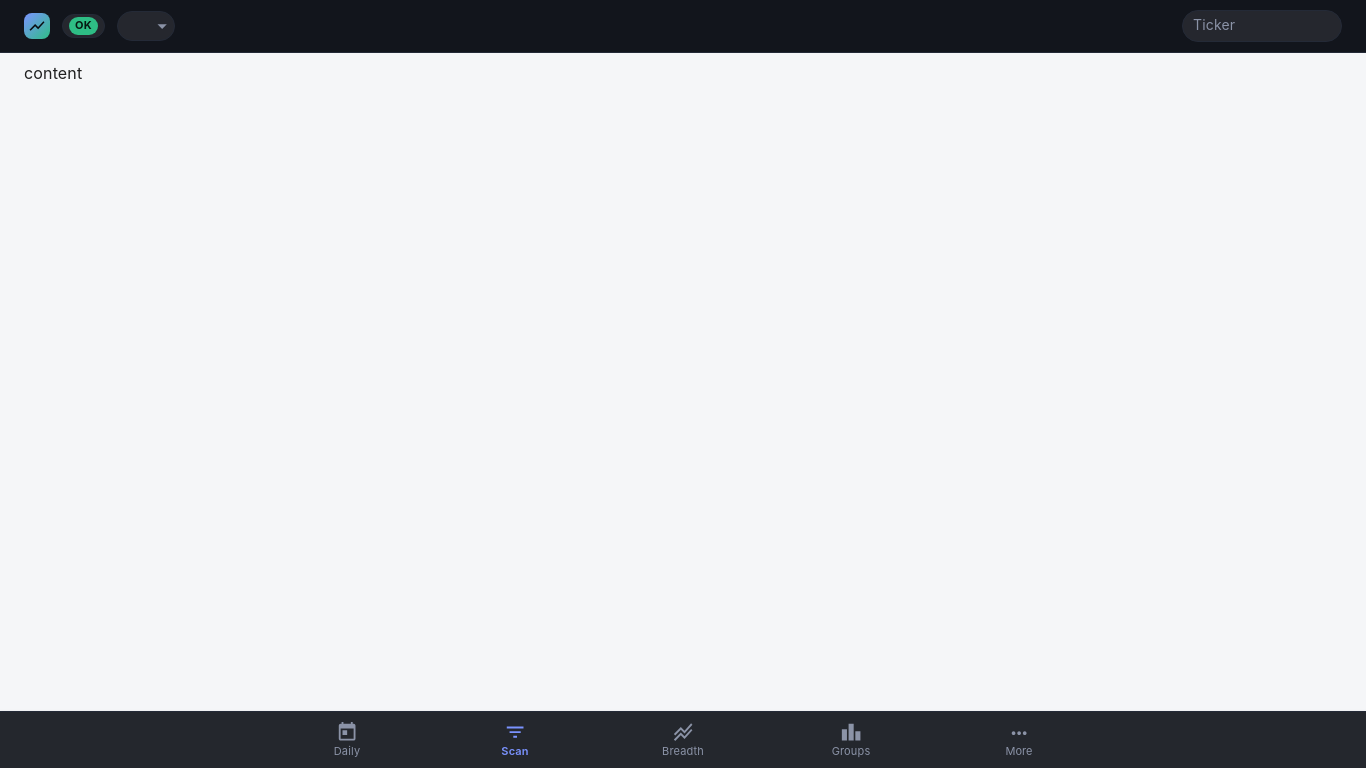
Scenario: Layout › on a phone-width screen › moves navigation into a bottom bar with a More sheet
The width and height of the screenshot is (1366, 768).
Expected: the links read "Daily", "Scan", "Breadth", "Groups", in this order, [334,721,360,758]; [501,721,529,758]; [662,721,704,758]; [832,721,870,758]
Expected: the link "Backtest" is not shown
Click the button "More".
click(1019, 740)  # box [935,712,1103,767]
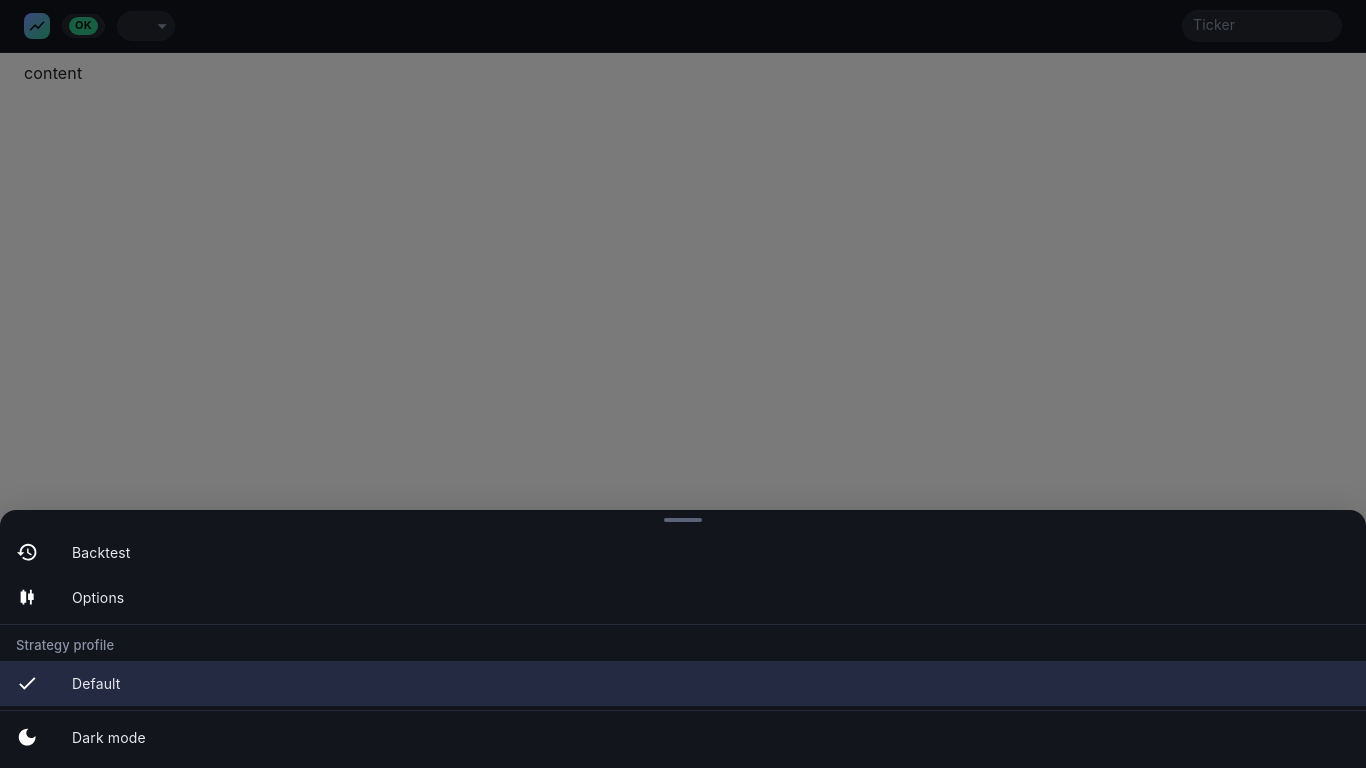
Now the link "Backtest" is shown, box [16,541,130,564]
Now the button "Default" is shown, box [0,661,1365,706]
Now the button "Dark mode" is shown, box [16,726,146,749]
